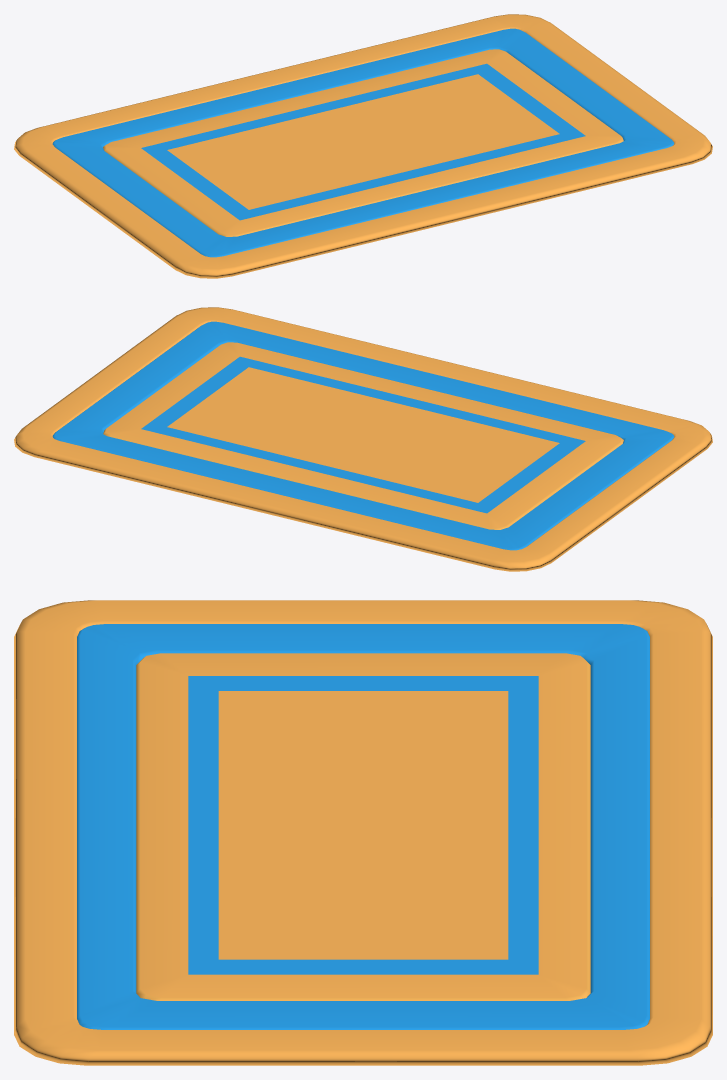
Rendered from Carpet_01.glb.
3 renders of one model, top to bottom at view 1: azimuth 30°, elevation 25°; view 2: azimuth 150°, elevation 25°; view 3: azimuth 270°, elevation 25°, orthographic. The views are drawn at different scales.
Visible parts, largest first — view 1: Carpet_01; view 2: Carpet_01; view 3: Carpet_01.
Part boxes in pixels (left/top/right/bottom): Carpet_01: left=14, top=14, right=712, bottom=278; Carpet_01: left=14, top=307, right=712, bottom=571; Carpet_01: left=14, top=600, right=712, bottom=1065.
Bounding box in the file's own units: 2.8 × 0.03 × 1.8.
1 material, 1 textured.
